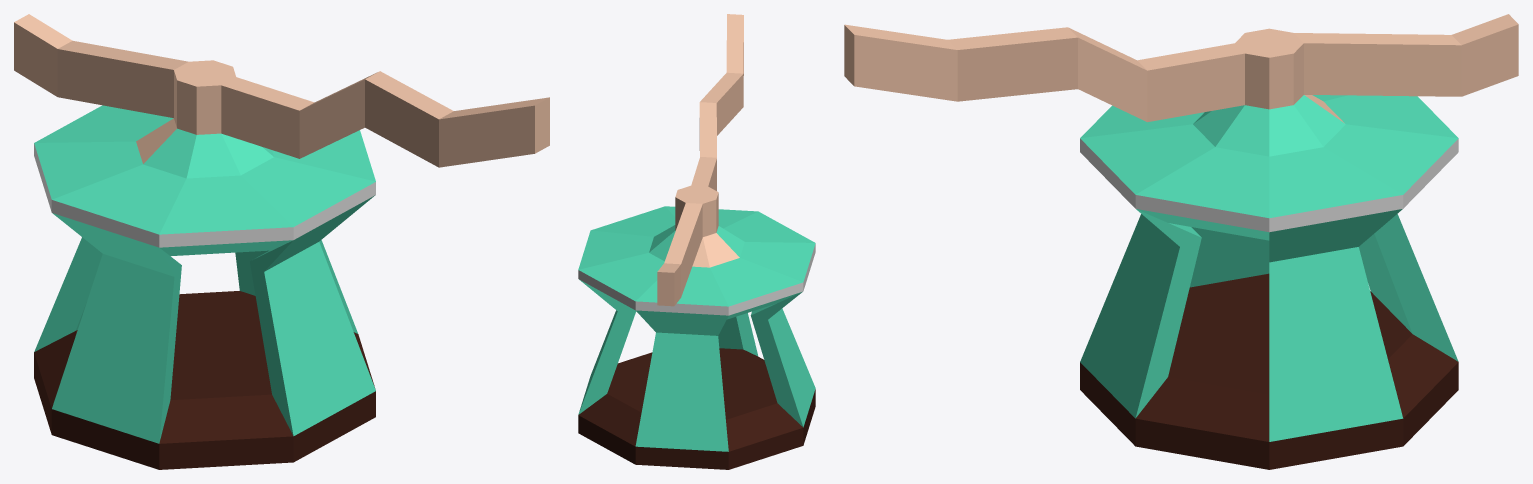
Rendered from fairyhouse1.fbx.
3 views of the same model, side by side, from view 1: azimuth 30°, elevation 25°; view 2: azimuth 150°, elevation 25°; view 3: azimuth 270°, elevation 25° (orthographic). The views are drawn at different scales.
Visible parts, largest first — view 1: casa1; view 2: casa1; view 3: casa1.
Part boxes in pixels (bbox=[...]): casa1: bbox=[14, 14, 549, 469]; casa1: bbox=[578, 14, 815, 469]; casa1: bbox=[844, 14, 1518, 469].
Size of the model in its own units: 2.75 by 3.47 by 4.9.
